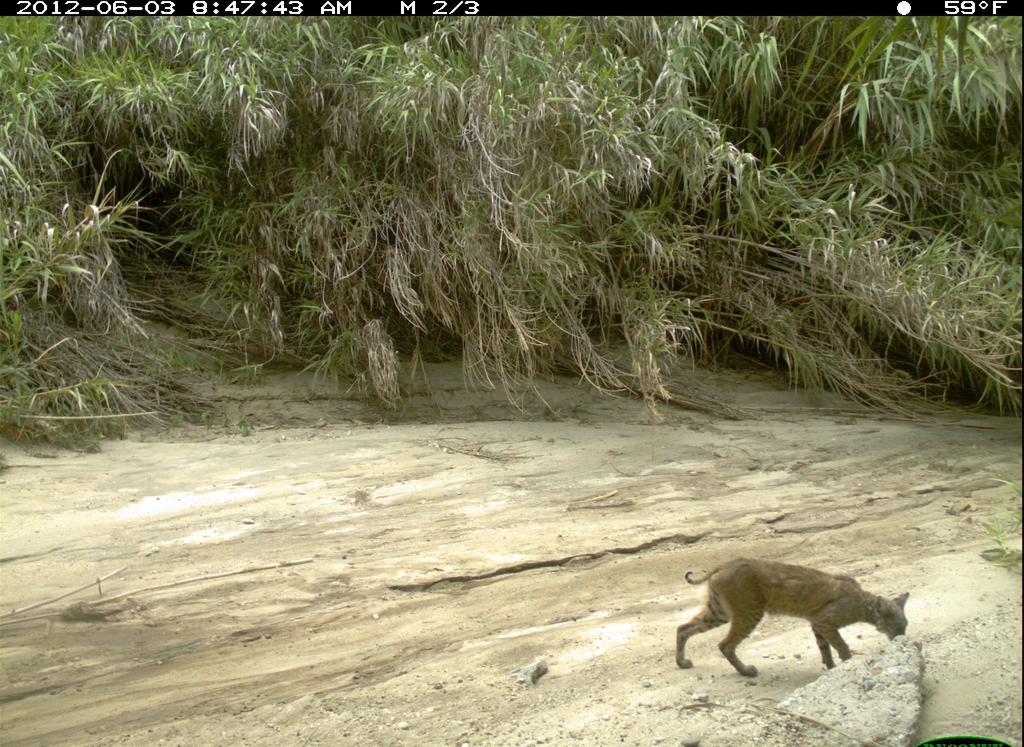bobcat: (673, 555, 914, 681)
